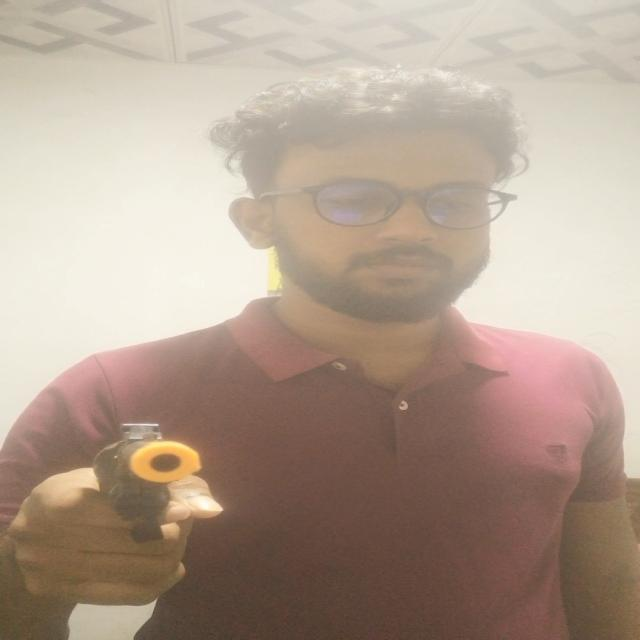Gun_Holder: (5, 395, 282, 640)
Person: (0, 63, 640, 640)
